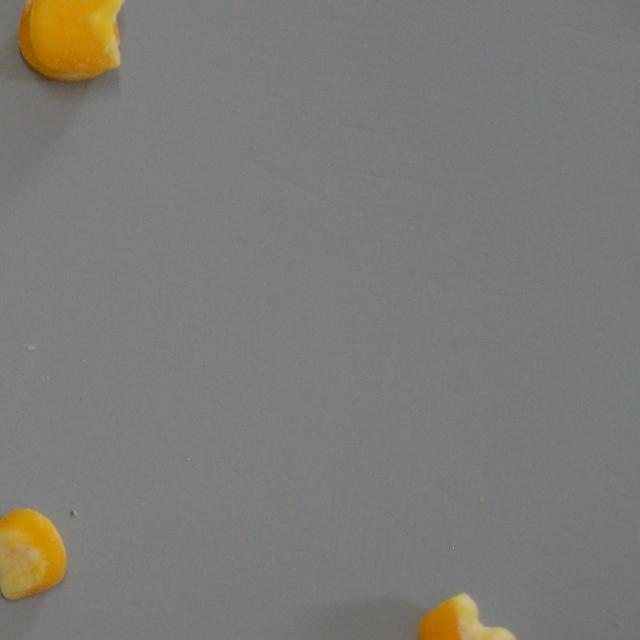no_canjicado: (0, 504, 68, 604), (414, 590, 520, 640)
pelicula: (14, 0, 127, 85)
